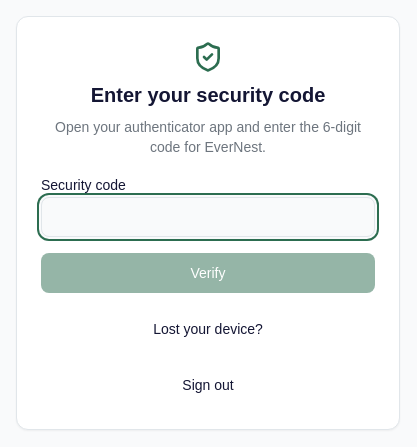
Scenario: MfaChallenge › warns what a recovery code does before it's used
Click the button "Lost your device?" at [208, 329], box [41,309,375,349]
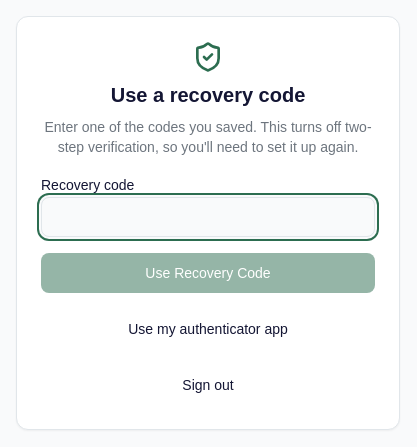
Result: the text "turns off two-step verification" is shown at [44,119,372,155]
